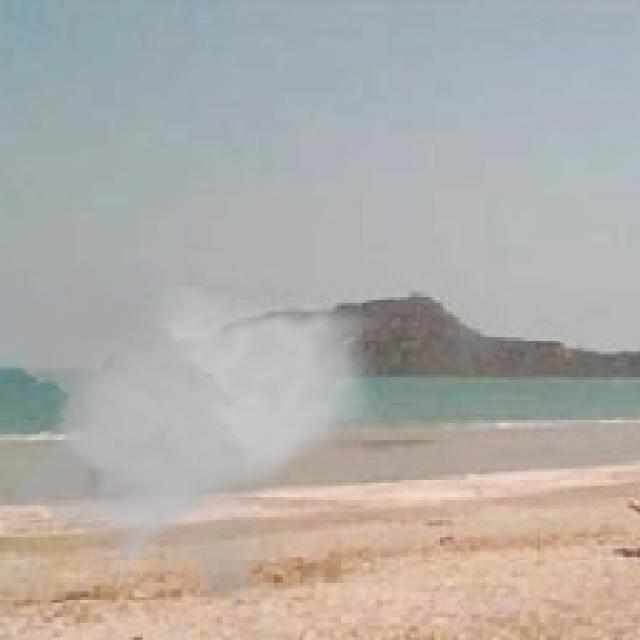smoke: (6, 257, 388, 614)
